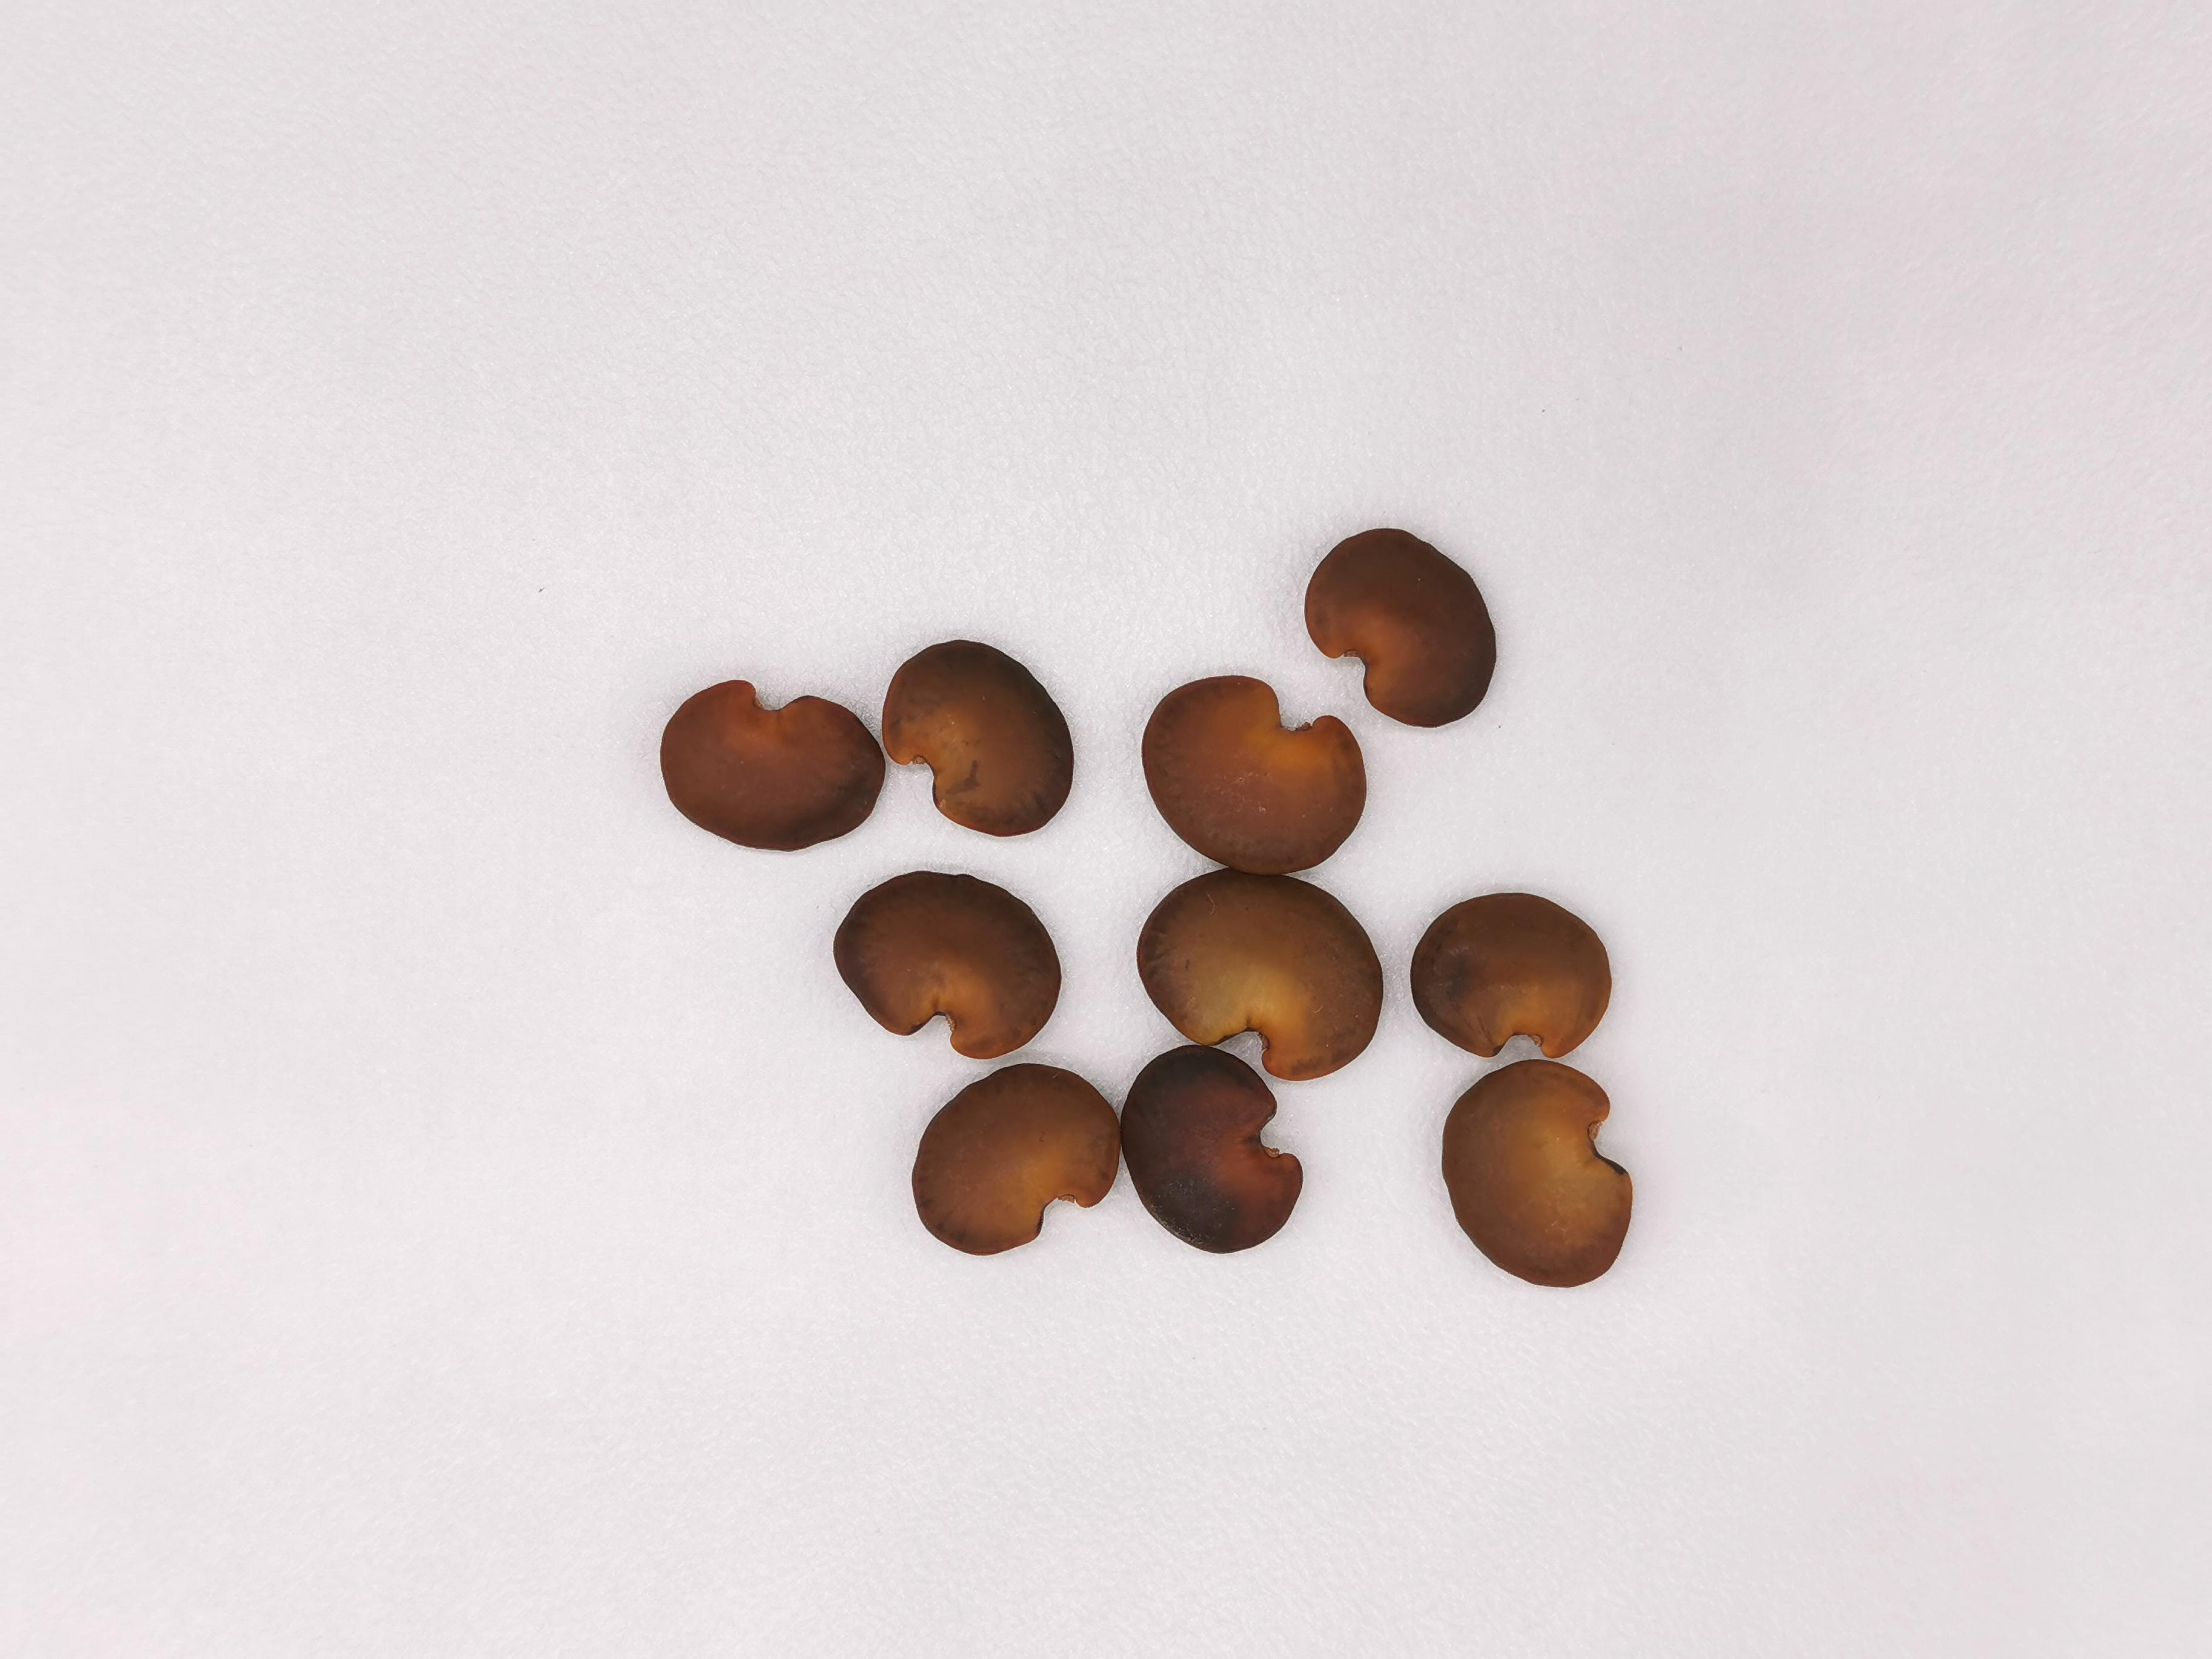seed: (1134, 873, 1376, 1084), (827, 868, 1064, 1058), (1144, 671, 1366, 873), (1439, 1063, 1637, 1284), (911, 1060, 1118, 1263), (1118, 1040, 1303, 1258), (1303, 526, 1496, 730), (880, 634, 1071, 833), (658, 678, 878, 847), (1411, 892, 1609, 1063)
